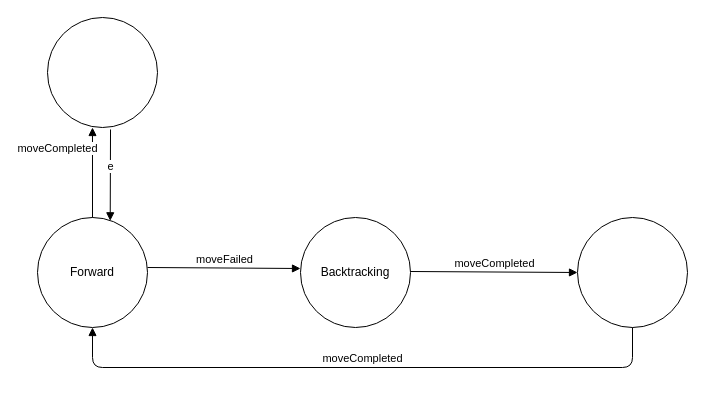
Some shapes in this 705 by 393 pixel diagram are drawn without their labels. Here are the shapes that lost their labels. From the top down, the centre of each, then its label:
At (102,72): "ConfirmForward".
At (632,272): "TurnLeft".
